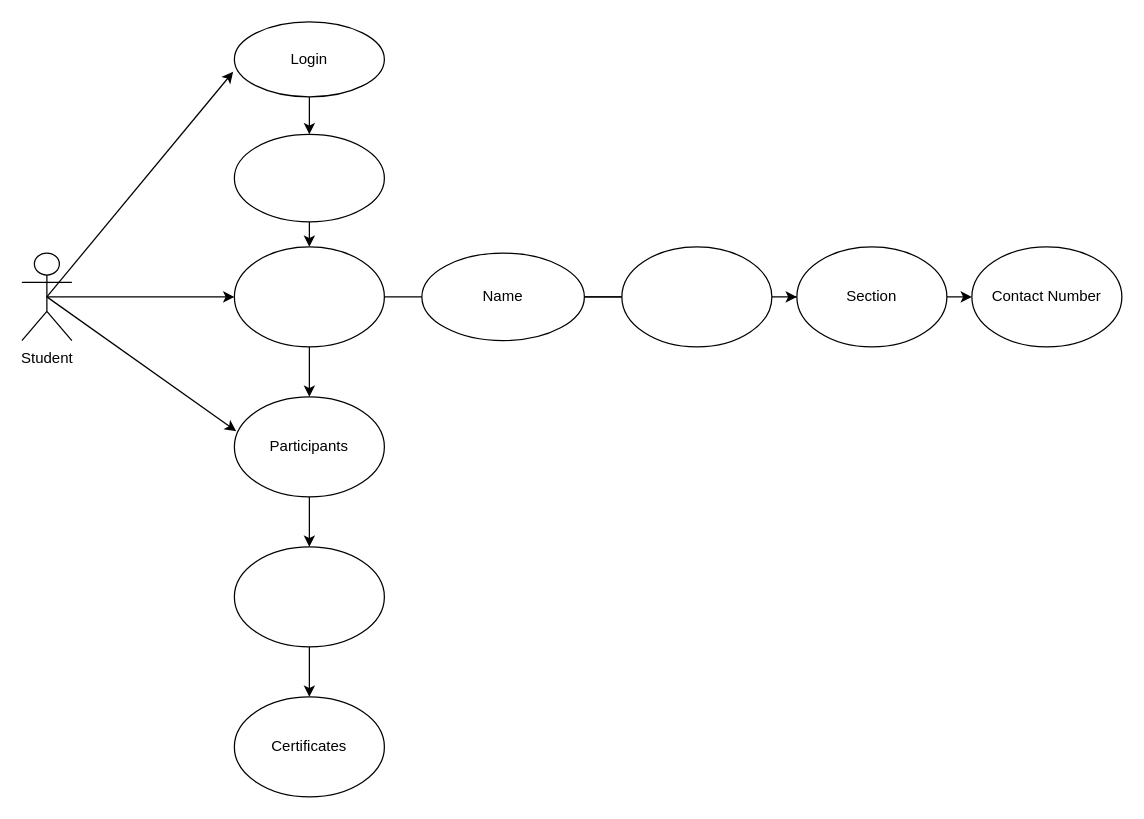
Image size: 1144x819. Some labels were removed from this diagram. The shapes that lost their labels are listed below. From the top down, each one's centre as x and y in pixels, then its label:
(x=308, y=177): Events List
(x=308, y=296): Event Registration
(x=696, y=296): Registration number
(x=308, y=596): Winners
